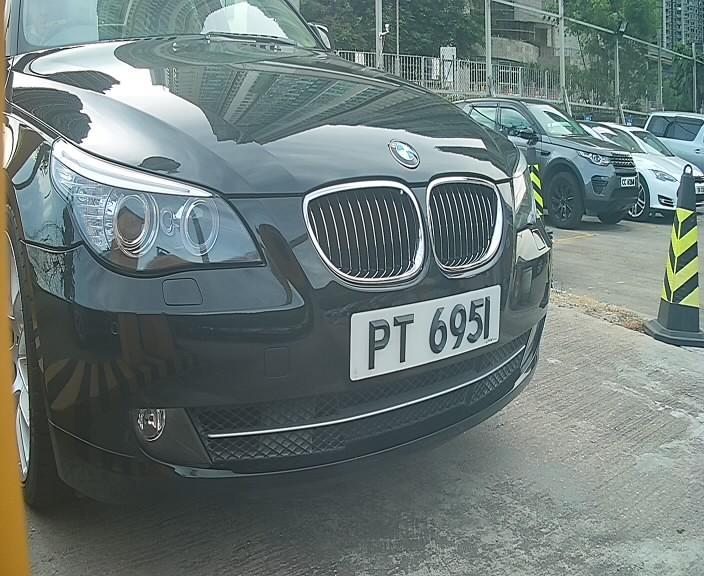privatecar: (1, 26, 585, 487)
